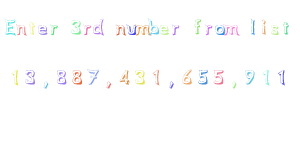,: (226, 76, 243, 96), (99, 78, 118, 95), (164, 75, 179, 95), (38, 77, 54, 95)
1: (272, 62, 292, 90), (256, 62, 275, 89), (148, 64, 166, 90), (8, 64, 23, 88)
3: (131, 64, 150, 90), (21, 64, 39, 89), (67, 13, 83, 37)
4: (115, 63, 130, 88)
5: (210, 63, 228, 91), (193, 64, 211, 90)
6: (177, 64, 196, 89)
7: (83, 63, 100, 89)
8: (53, 64, 70, 90), (69, 64, 86, 89)
9: (240, 63, 258, 88)
E: (1, 11, 16, 38)
b: (148, 16, 160, 40)
d: (90, 13, 107, 38)
e: (157, 19, 171, 38), (36, 20, 48, 37)
f: (187, 12, 203, 36)
i: (257, 17, 270, 39)
l: (245, 12, 260, 39)
m: (132, 17, 151, 39), (221, 20, 241, 39)
n: (111, 19, 127, 39), (15, 21, 29, 40)
o: (213, 21, 227, 37)
r: (47, 20, 64, 39), (168, 19, 183, 39), (82, 21, 92, 39), (203, 23, 214, 38)
s: (269, 22, 281, 39)
t: (25, 14, 38, 38), (280, 15, 291, 37)
u: (124, 19, 138, 37)
